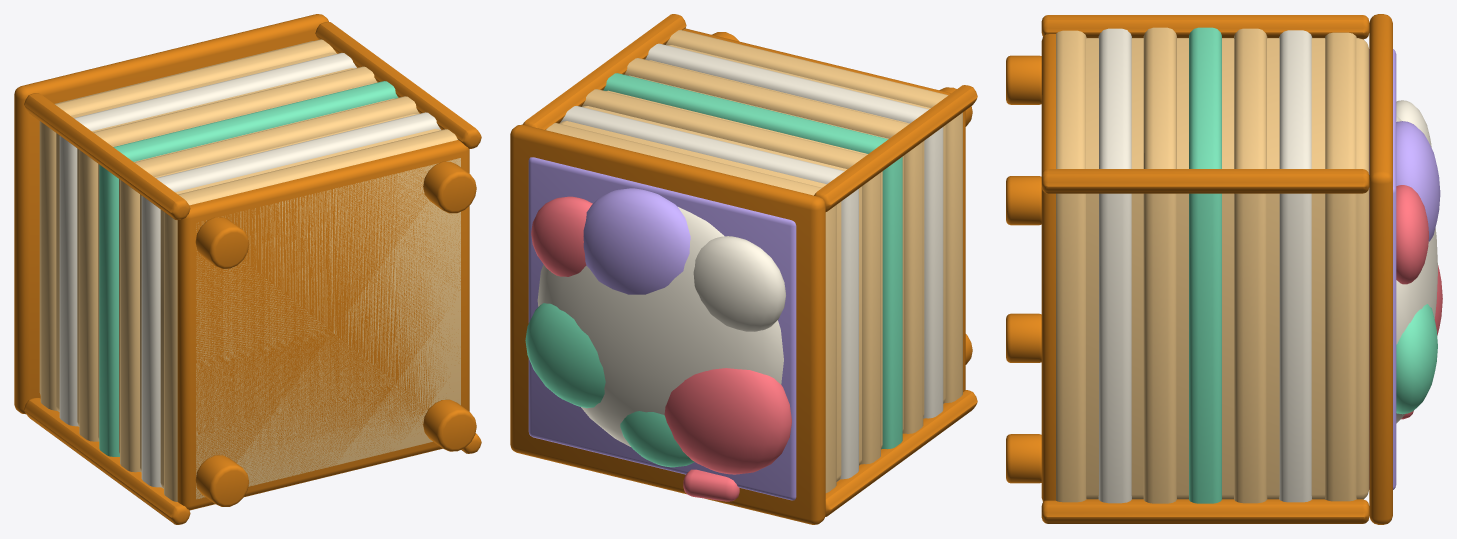
File: BathroomLaundryHamper_Premium.fbx
The picture shows the model from 3 angles, left to right: view 1: azimuth 30°, elevation 25°; view 2: azimuth 150°, elevation 25°; view 3: azimuth 270°, elevation 25°; orthographic projection. The views are drawn at different scales.
Visible parts, largest first — view 1: BathroomLaundryHamper; view 2: BathroomLaundryHamper; view 3: BathroomLaundryHamper.
Part boxes in pixels (x1,y1,x2,y2): BathroomLaundryHamper: (14, 14, 481, 524); BathroomLaundryHamper: (510, 14, 977, 524); BathroomLaundryHamper: (1006, 14, 1442, 524).
Size of the model in its own units: 0.82 by 0.82 by 0.92.
